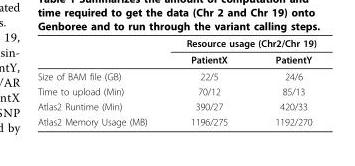table: (36, 37, 315, 126)
table column: (36, 37, 166, 126), (166, 37, 250, 126), (250, 37, 315, 126)
table column header: (36, 37, 315, 67)
table row: (36, 51, 315, 67), (36, 67, 315, 83), (36, 83, 315, 98), (36, 98, 315, 113), (36, 37, 315, 51), (36, 113, 315, 126)
table spanning cell: (166, 37, 315, 51)
